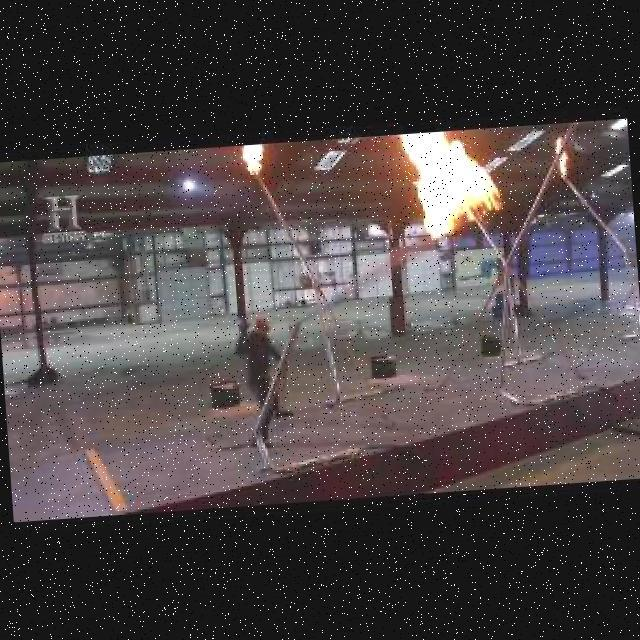Fire: (394, 129, 513, 241), (240, 149, 272, 177), (552, 135, 571, 176)
